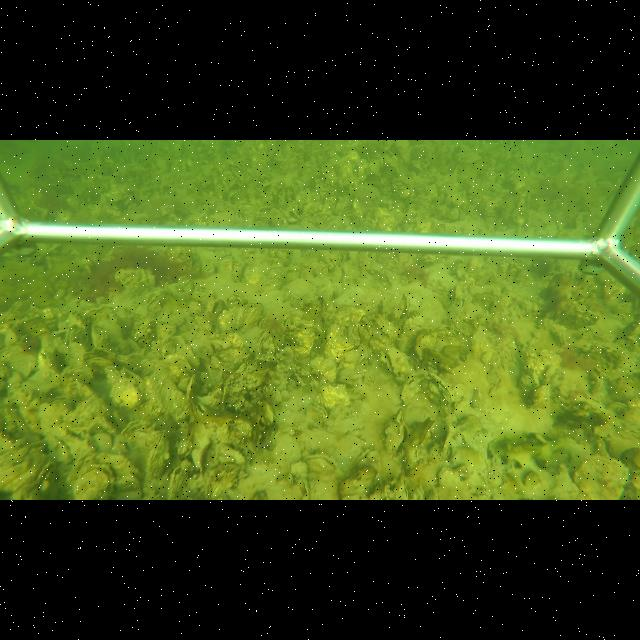Oyster-Closed: (204, 440, 246, 496), (401, 371, 452, 412), (85, 306, 124, 350), (382, 408, 406, 456), (146, 430, 170, 478), (304, 453, 338, 474), (416, 419, 438, 448), (179, 343, 200, 368), (393, 293, 409, 321), (186, 374, 197, 411), (332, 343, 356, 355)
